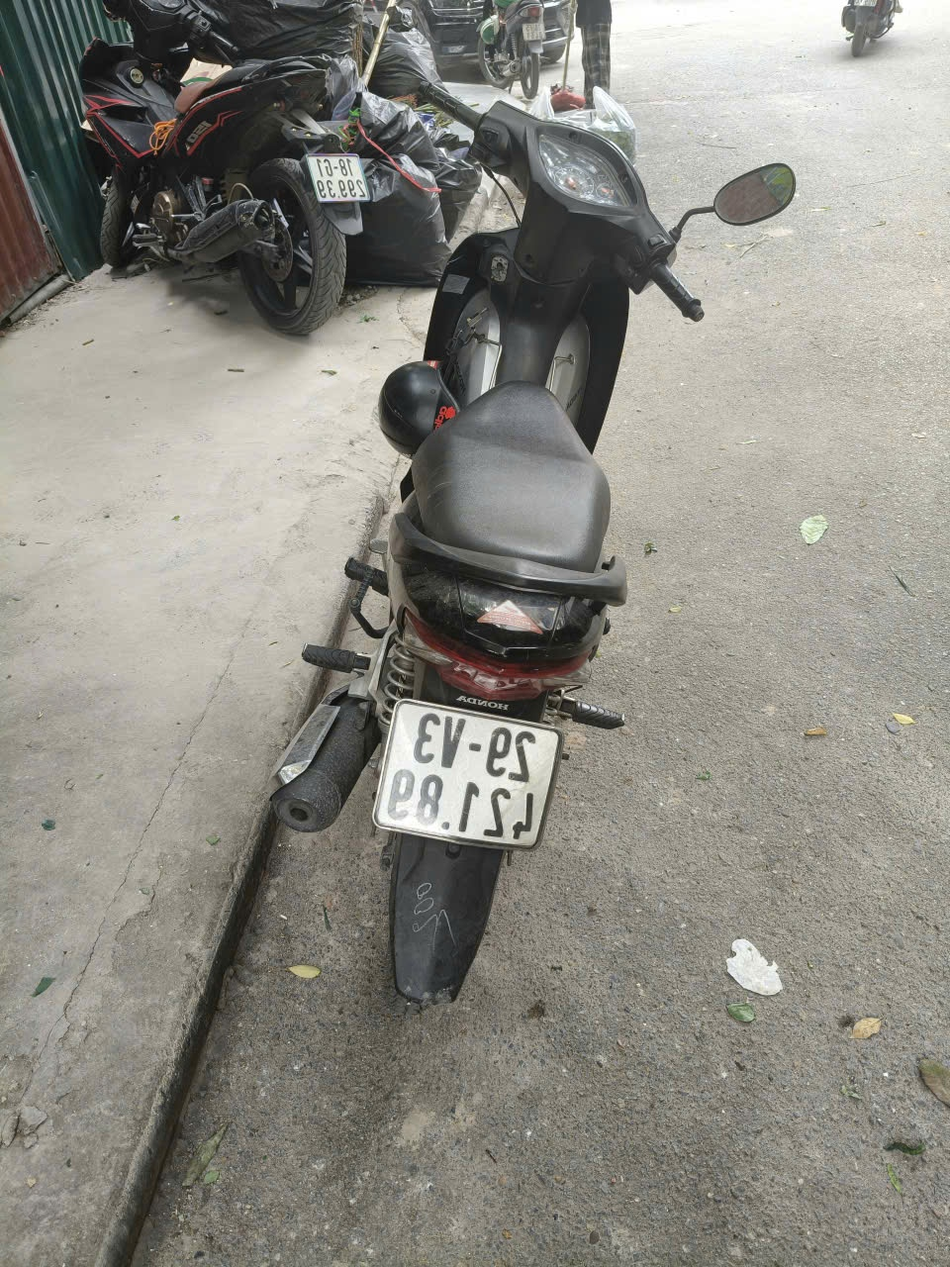plate: (693, 636, 755, 660)
